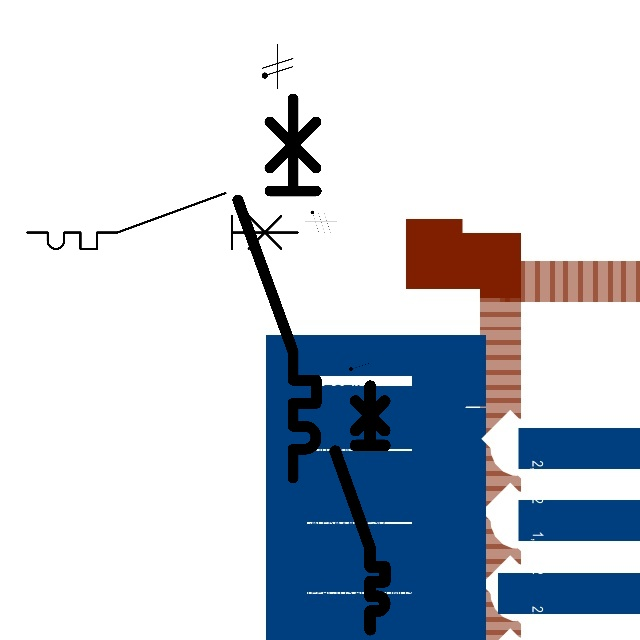interruptor_termomagnetico: (228, 89, 326, 488), (20, 186, 305, 256), (329, 380, 391, 636)
